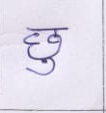u_matra: (26, 58, 58, 76)
